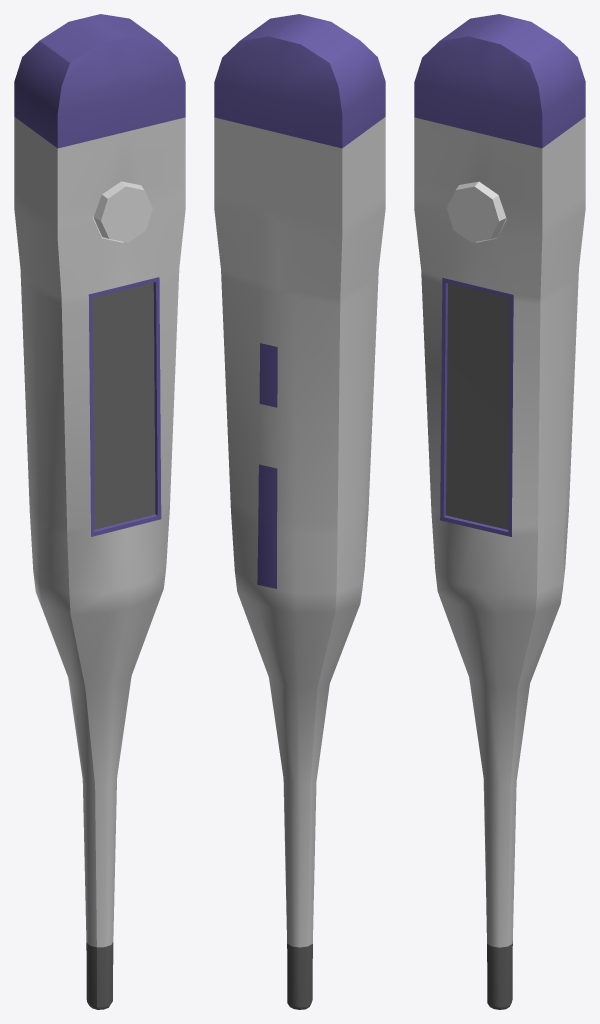
The model's file is Thermometer.fbx.
3 views of the same model, side by side, from view 1: azimuth 30°, elevation 25°; view 2: azimuth 150°, elevation 25°; view 3: azimuth 330°, elevation 25° (orthographic).
Visible parts, largest first — view 1: pCube1; view 2: pCube1; view 3: pCube1.
Boxes of the visible parts, left/top/right/bottom form: pCube1: left=14, top=14, right=185, bottom=1009; pCube1: left=214, top=14, right=385, bottom=1009; pCube1: left=414, top=14, right=585, bottom=1009.
Bounding box in the file's own units: 0.822 × 6.01 × 0.6141.
